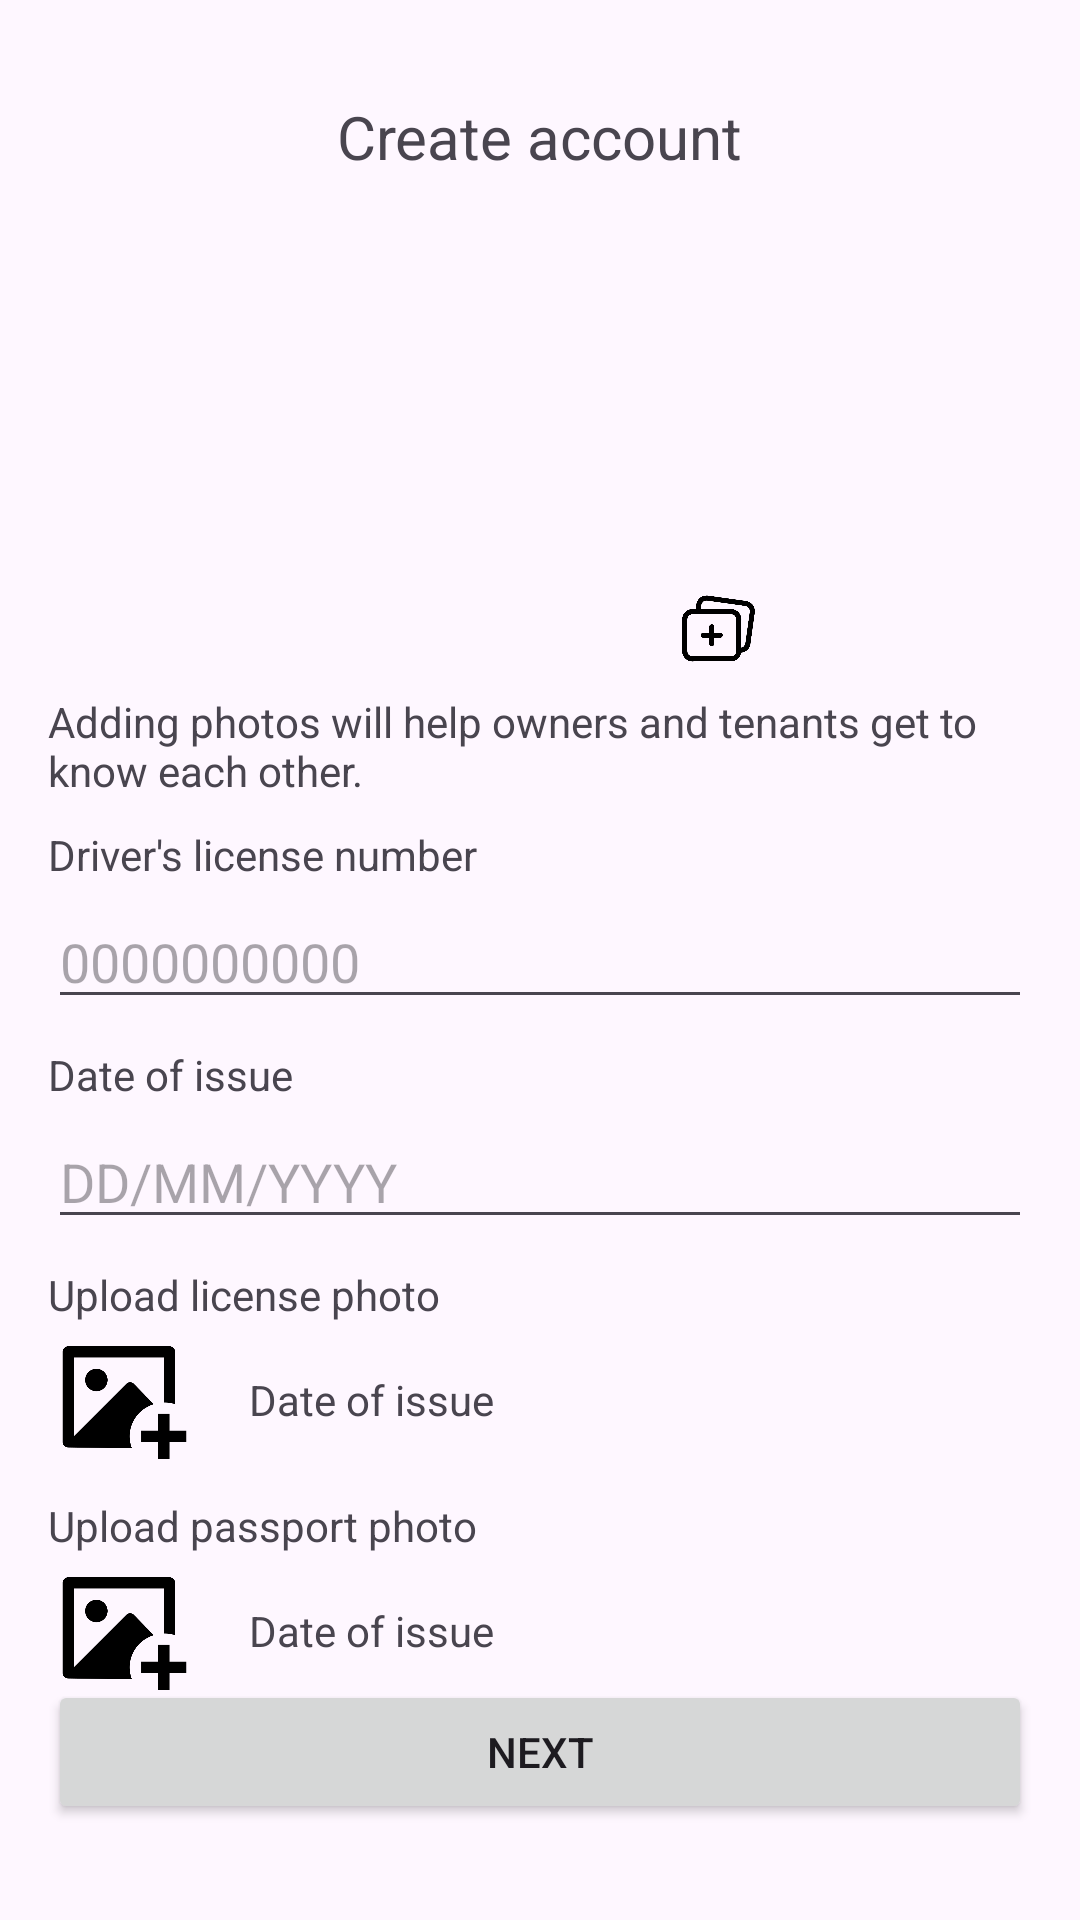

Where to tap for icons on this 1080px x 1920px app screen, as (x=x, y=y):
add license photo: (x=124, y=1402), (x=124, y=1633)
add photo: (x=718, y=628)
